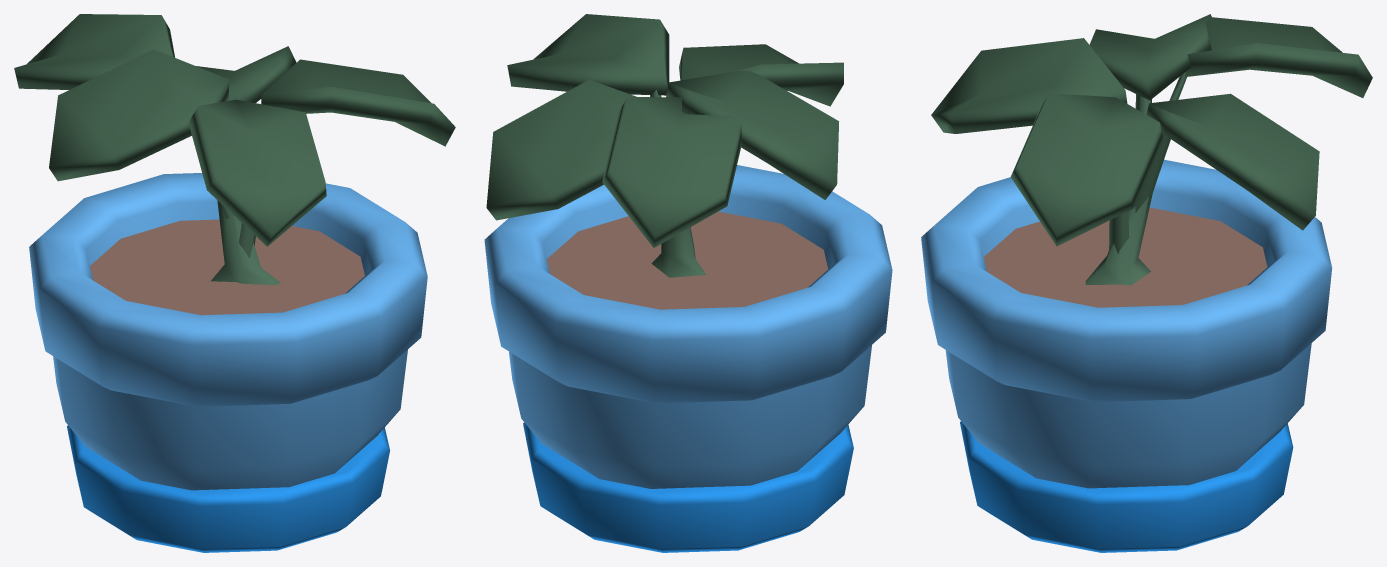
Rendered from flower_010.fbx.
3 views of the same model, side by side, from view 1: azimuth 30°, elevation 25°; view 2: azimuth 150°, elevation 25°; view 3: azimuth 270°, elevation 25° (orthographic). The views are drawn at different scales.
Visible parts, largest first — view 1: flower_010; view 2: flower_010; view 3: flower_010.
Boxes of the visible parts, box(x1,y1,x2,y2) form: flower_010: box(14, 14, 455, 552); flower_010: box(484, 14, 892, 552); flower_010: box(921, 14, 1372, 552).
Bounding box in the file's own units: 57.2 × 59.42 × 64.9.
